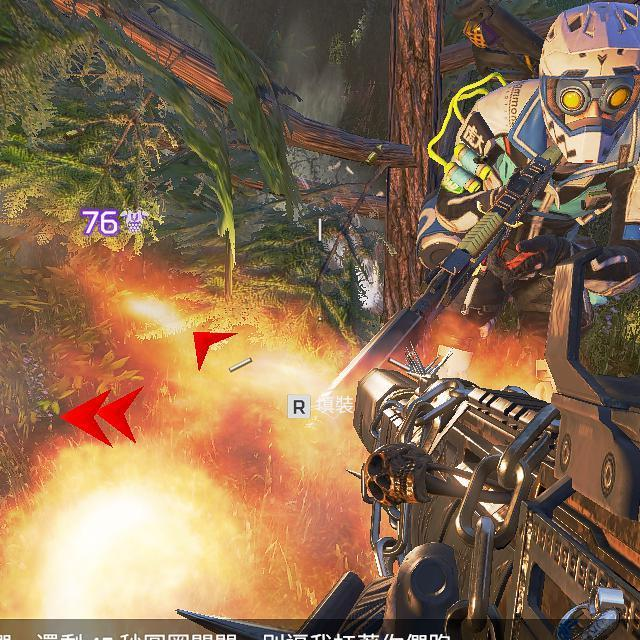avatar: (416, 1, 640, 380)
